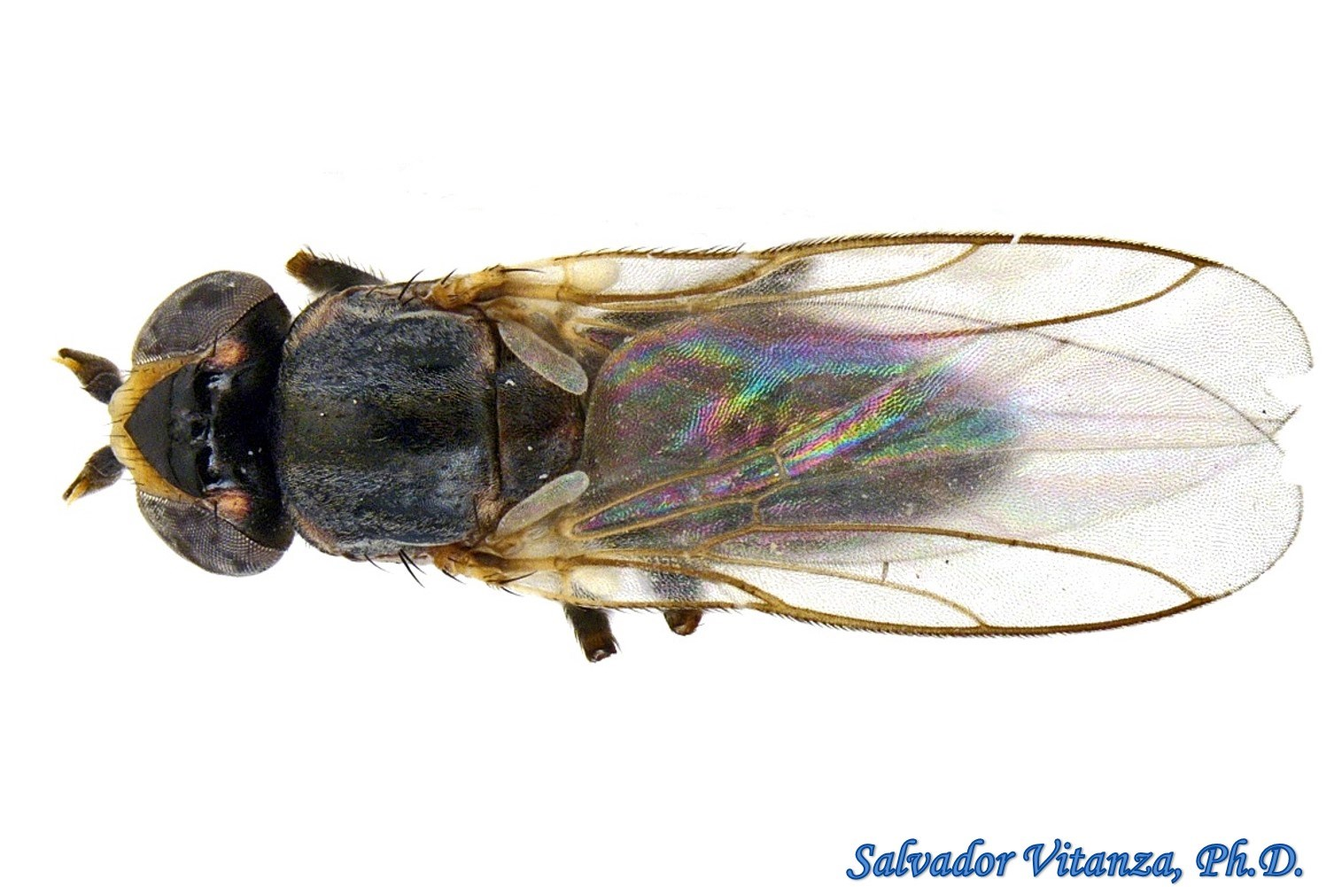Chloropidae: (49, 230, 1316, 667)
